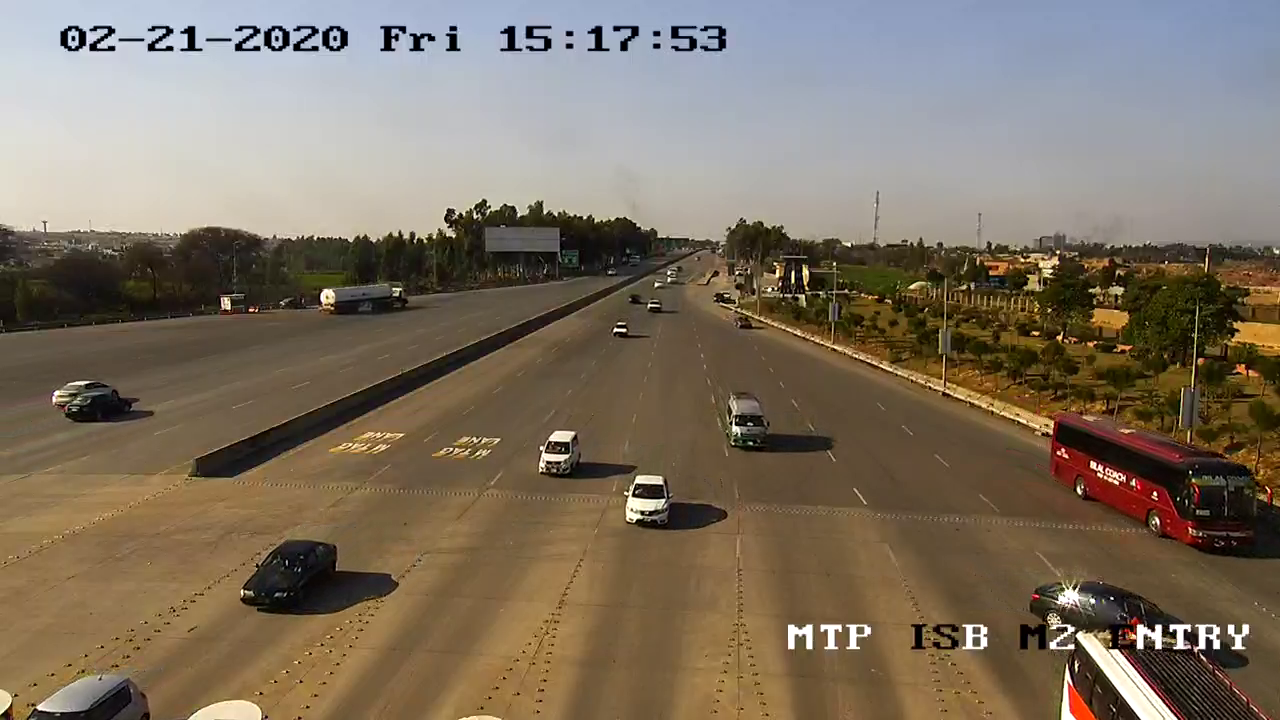f1: (235, 534, 352, 615), (617, 467, 683, 537), (531, 424, 593, 481)
f2: (714, 389, 775, 461)
f4: (1046, 404, 1272, 557)
